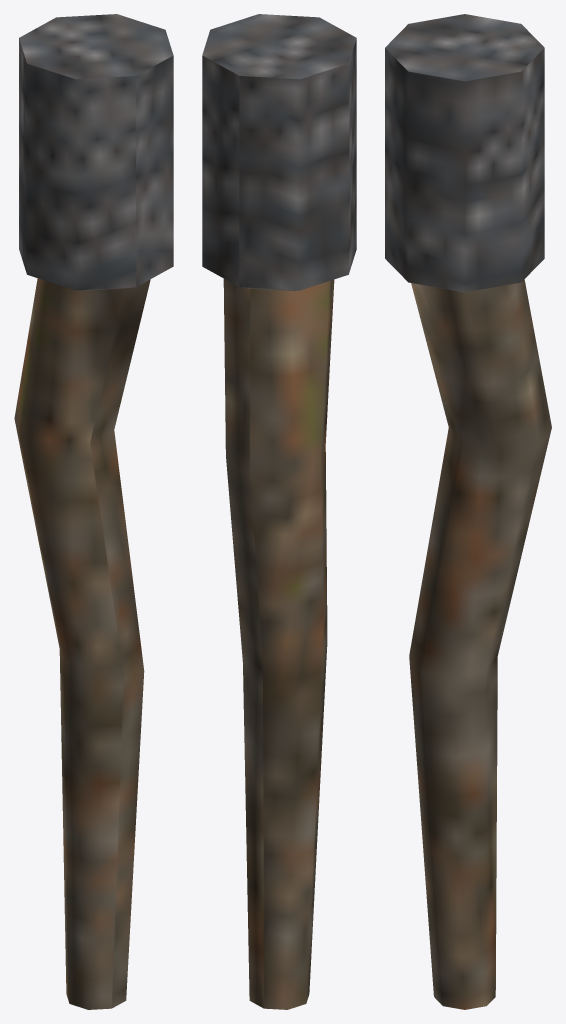
File: torch.fbx
The picture shows the model from 3 angles, left to right: view 1: azimuth 30°, elevation 25°; view 2: azimuth 150°, elevation 25°; view 3: azimuth 270°, elevation 25°; orthographic projection.
Parts seen in each view (by area): view 1: Cylinder.018; view 2: Cylinder.018; view 3: Cylinder.018.
Part boxes in pixels (x1,y1,x2,y2): Cylinder.018: [14, 14, 173, 1009]; Cylinder.018: [202, 14, 356, 1009]; Cylinder.018: [385, 14, 551, 1009].
Size of the model in its own units: 9.19 by 60.26 by 9.61.
